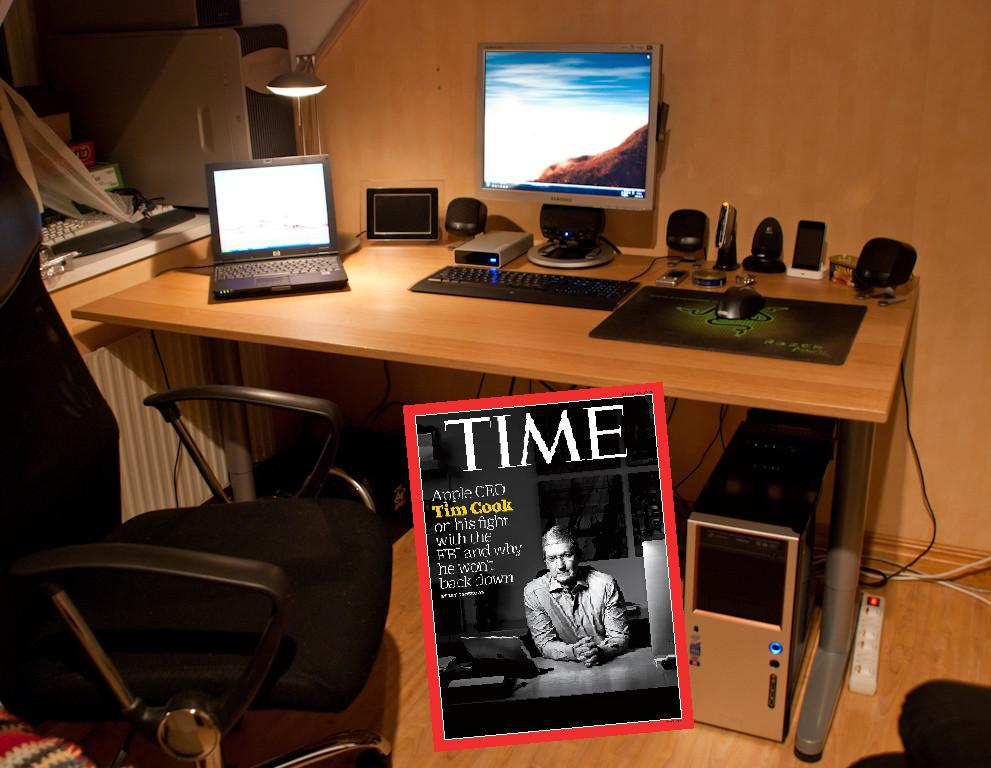times: (401, 370, 690, 758)
